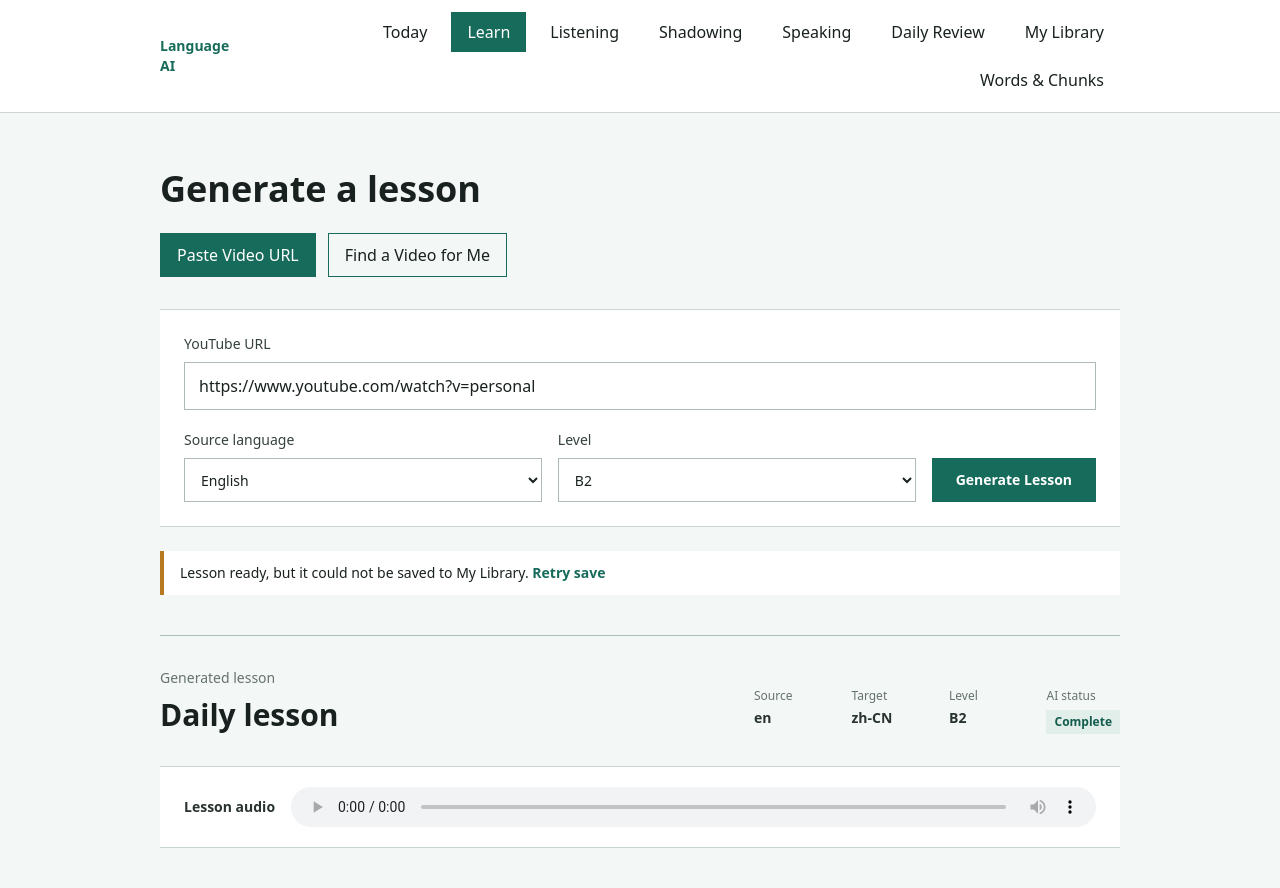
App Library navigation › provides Daily Review navigation without changing the active Personal Session
Click the button "Daily Review". click: [938, 32]
box: [875,12,1001,52]
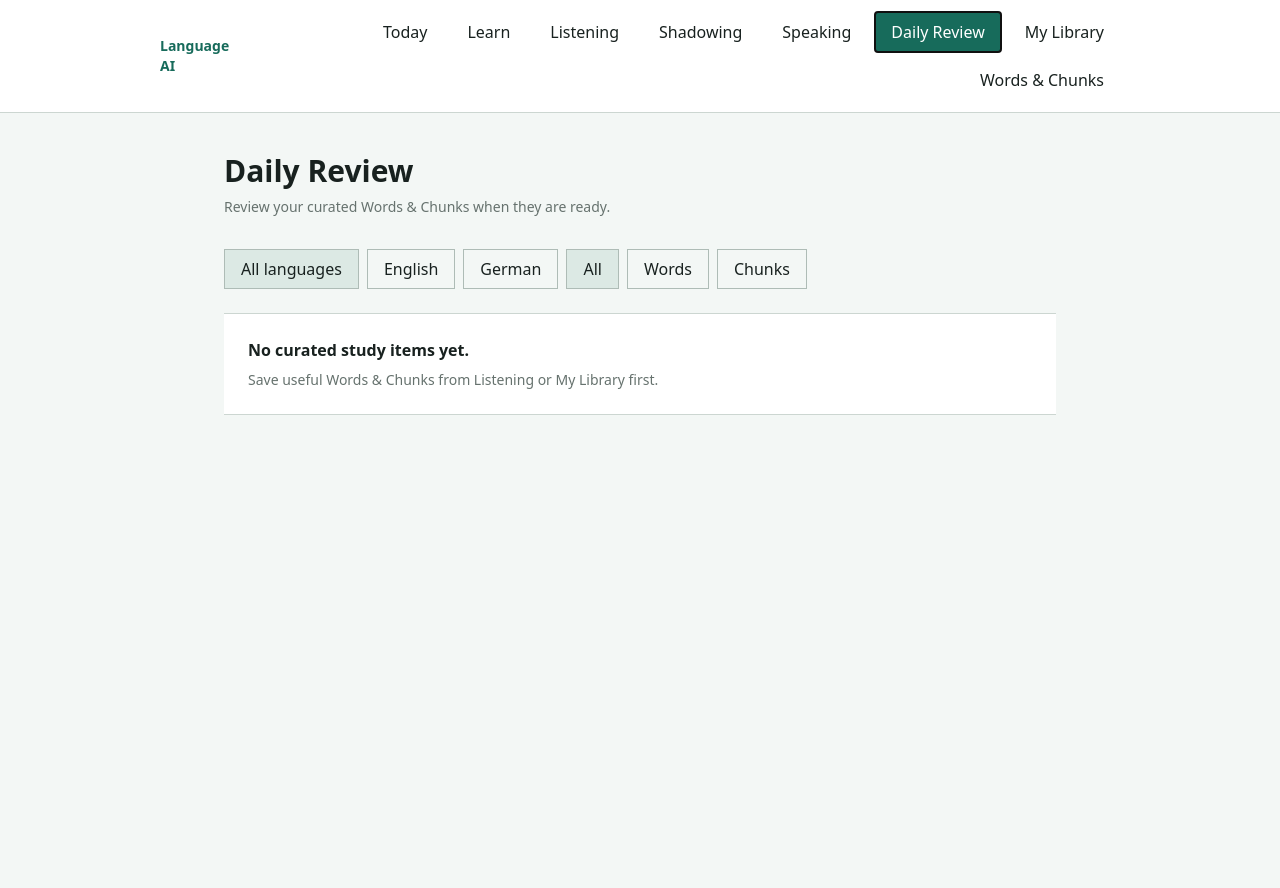
Now the heading "Daily Review" is shown, box [224,150,414,191]
